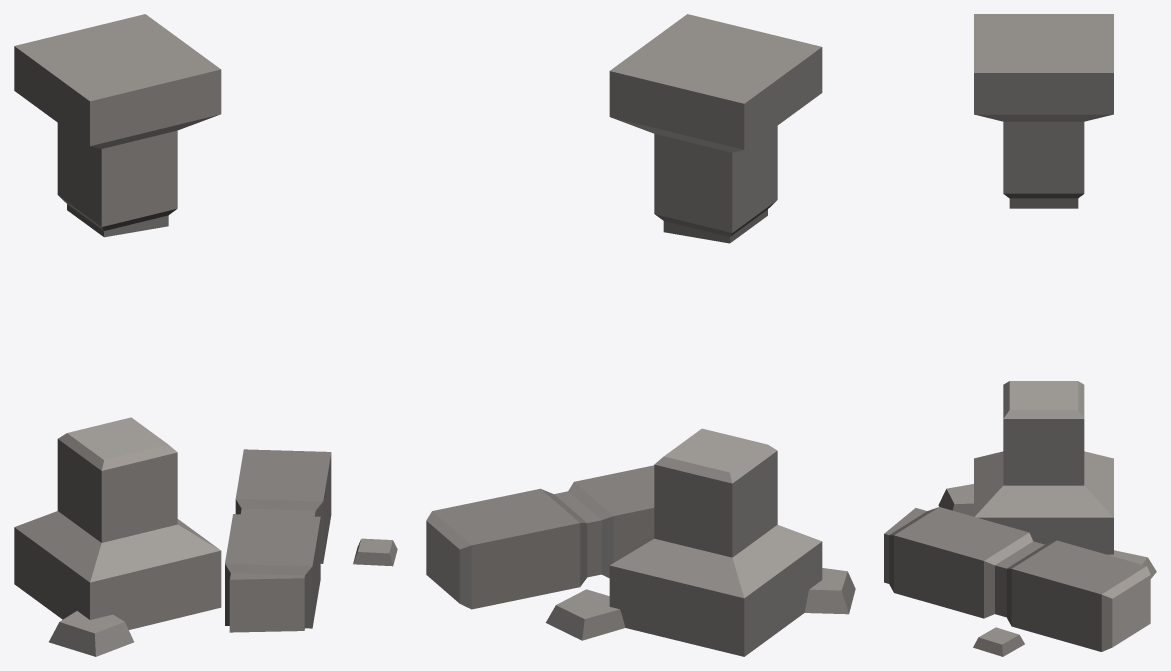
File: SD_Env_Pillar_Stone_Broken_01.fbx
3 renders of one model, left to right at view 1: azimuth 30°, elevation 25°; view 2: azimuth 150°, elevation 25°; view 3: azimuth 270°, elevation 25°, orthographic. The views are drawn at different scales.
Visible parts, largest first — view 1: SD_Env_Pillar_Stone_Broken_01; view 2: SD_Env_Pillar_Stone_Broken_01; view 3: SD_Env_Pillar_Stone_Broken_01.
Part boxes in pixels (x1=…): SD_Env_Pillar_Stone_Broken_01: x1=14, y1=14, x2=397, y2=656; SD_Env_Pillar_Stone_Broken_01: x1=426, y1=14, x2=855, y2=656; SD_Env_Pillar_Stone_Broken_01: x1=884, y1=14, x2=1156, y2=656.
Bounding box in the file's own units: 3.47 × 5.01 × 2.49.
